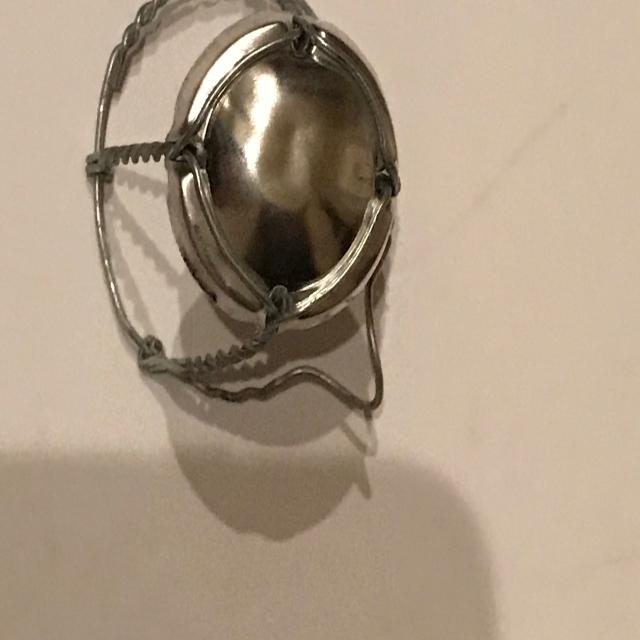metal: (85, 0, 402, 418)
